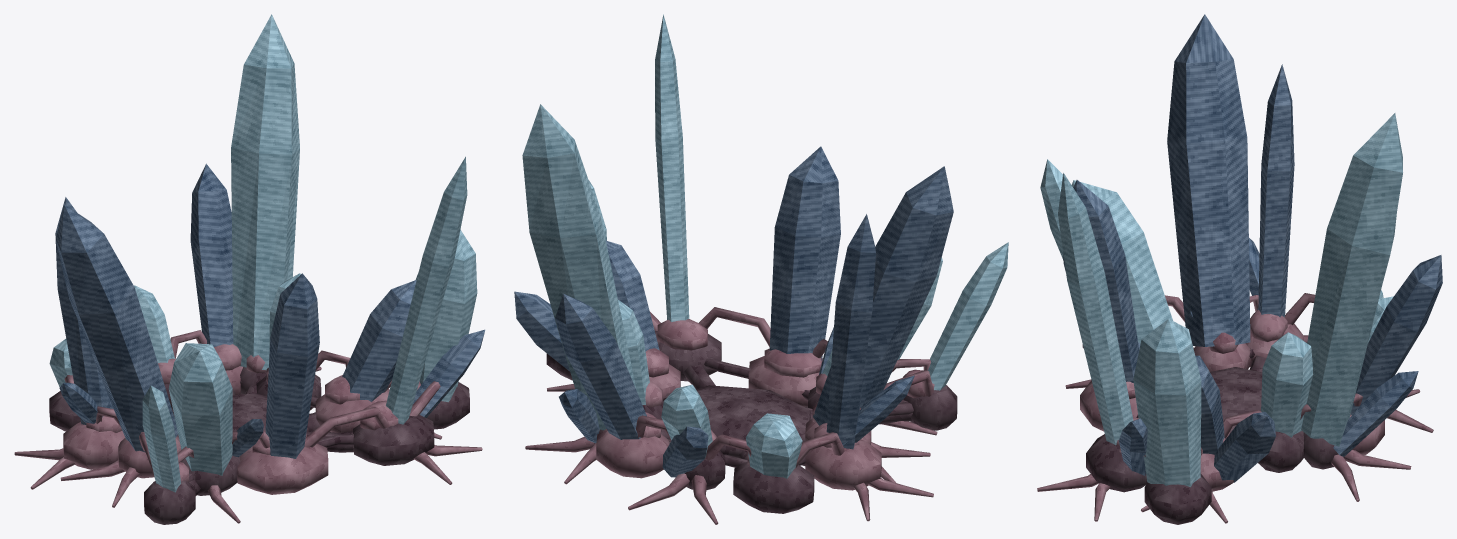
Rendered from colony_mature.glb.
The picture shows the model from 3 angles, left to right: view 1: azimuth 30°, elevation 25°; view 2: azimuth 150°, elevation 25°; view 3: azimuth 270°, elevation 25°; orthographic projection. The views are drawn at different scales.
Parts seen in each view (by area): view 1: colony_mature; view 2: colony_mature; view 3: colony_mature.
Part boxes in pixels (x1,y1,x2,y2): colony_mature: [14, 14, 485, 524]; colony_mature: [514, 14, 1008, 524]; colony_mature: [1037, 14, 1442, 524].
Bounding box in the file's own units: 1.89 × 1.58 × 1.54.
Materials: 5 (5 with a texture image).
